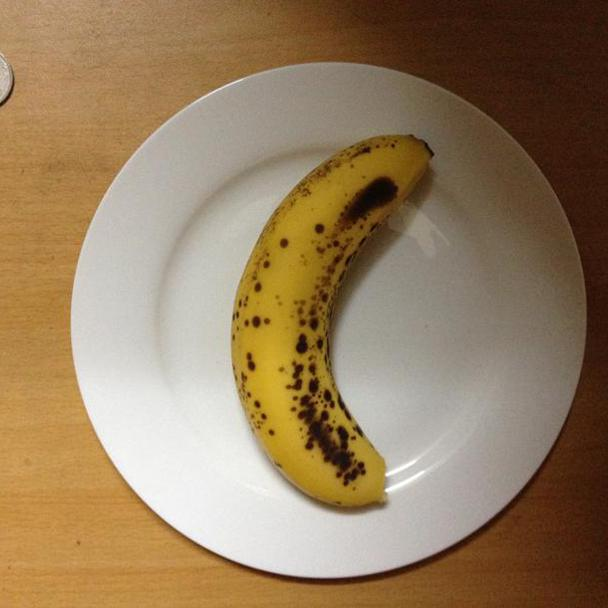banana: (229, 132, 436, 510)
